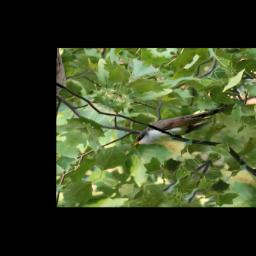Cuckoo: (128, 82, 233, 164)
